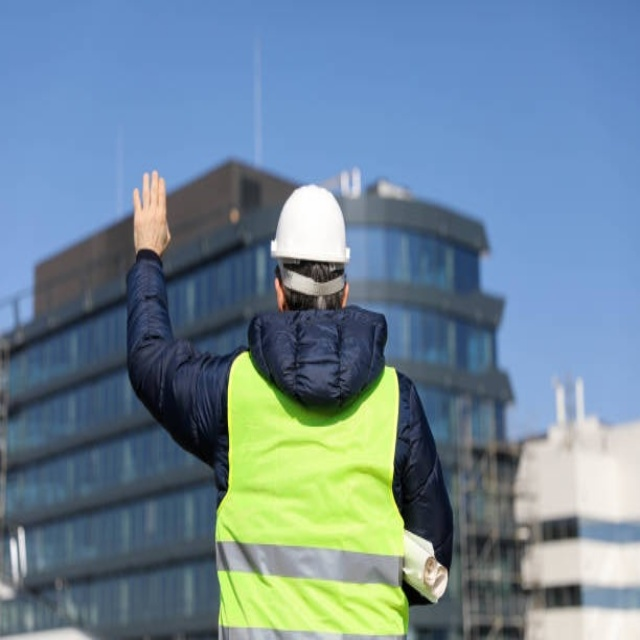Sin_guantes: (132, 172, 171, 261)
